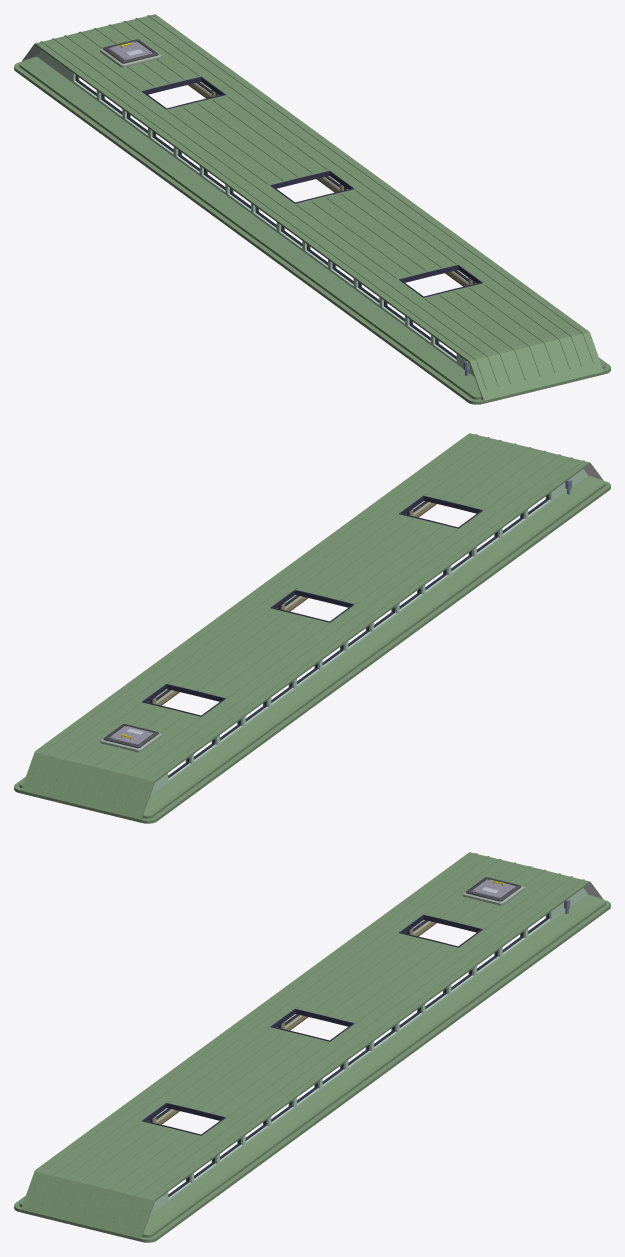
Rendered from Roof_Windowed.fbx.
3 renders of one model, top to bottom at view 1: azimuth 30°, elevation 25°; view 2: azimuth 150°, elevation 25°; view 3: azimuth 330°, elevation 25°, orthographic.
Parts seen in each view (by area): view 1: polySurface1256; view 2: polySurface1256; view 3: polySurface1256.
Part boxes in pixels (bbox=[...]): polySurface1256: bbox=[14, 14, 610, 404]; polySurface1256: bbox=[14, 433, 610, 823]; polySurface1256: bbox=[14, 852, 610, 1242].
Size of the model in its own units: 9.79 by 2.61 by 55.45.
